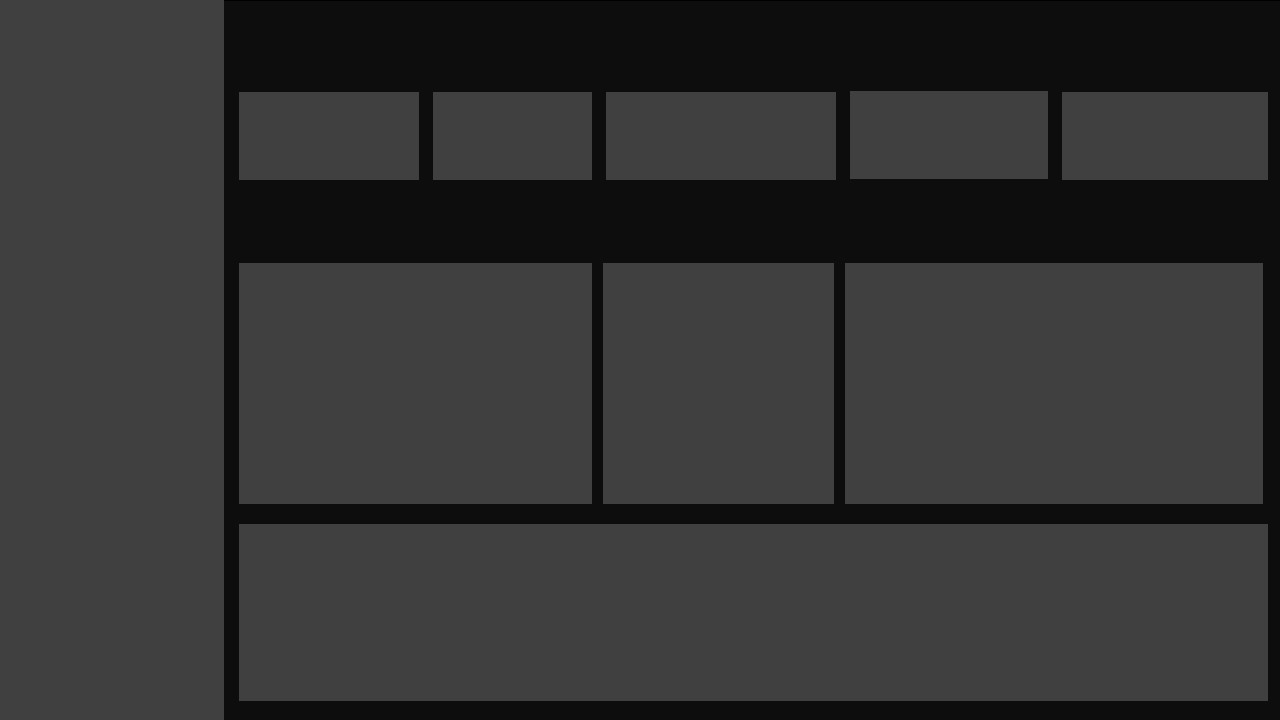

The dashboard page shown, as its layout file describes it:
{"tool":"powerbi","page":{"name":"Page 1","canvas":[1280,720],"ordinal":0},"visuals":[{"type":"lineChart","title":"Pontos","fields":{"Y":["Sum(Tabela1.Pontos)"],"Category":["Tabela1.Rodada"]},"box":[236.2,524.2,1032.5,174.2],"z":0},{"type":"columnChart","title":"Posse de Bola","fields":{"Category":["Tabela1.Rodada"],"Y":["Sum(Tabela1.Posse de Bola)"]},"box":[848.2,263.5,419,234.7],"z":1000},{"type":"lineStackedColumnComboChart","title":"Chutes para marcar gol","fields":{"Category":["Tabela1.Rodada"],"Y":["Sum(Tabela1.Chutes a Gol)"],"Y2":["Sum(Tabela1.Gols Marcados)"]},"box":[236.2,263.5,355.7,234.7],"z":2000},{"type":"barChart","title":"Faltas","fields":{"Category":["Tabela1.Rodada"],"Y":["Sum(Tabela1.Faltas)"]},"box":[604.8,263.5,231.8,234.7],"z":3000},{"type":"card","title":"Gols Marcados","fields":{"Values":["Sum(Tabela1.Gols Marcados)"]},"box":[504,92.2,87.8,83.5],"z":4000},{"type":"card","title":"Gols Sofridos","fields":{"Values":["Sum(Tabela1.Gols Sofridos)"]},"box":[678.3,91.7,158.3,83.3],"z":5000},{"type":"card","title":"Cartões Amarelos","fields":{"Values":["Sum(Tabela1.Cartoes amarelos)"]},"box":[930,91.7,118.3,83.3],"z":6000},{"type":"card","title":"Cartões Vermelhos","fields":{"Values":["Sum(Tabela1.Cartoes Vermehlos)"]},"box":[1141.7,91.7,126.7,83.3],"z":7000},{"type":"card","title":"Pontos","fields":{"Values":["Tabela1.pontos_totais"]},"box":[306.7,91.7,108.3,83.3],"z":8000},{"type":"textbox","box":[591.8,0,329.8,92.2],"z":9000},{"type":"slicer","fields":{"Values":["Parâmetro.Parâmetro"]},"box":[0,169.9,221.8,528.5],"z":10000},{"type":"image","box":[0,0,221.8,175.7],"z":11000},{"type":"image","box":[440.6,102.2,63.4,63.4],"z":12000},{"type":"image","box":[627.8,102.2,61.9,63.4],"z":13000},{"type":"image","box":[859.7,96.5,80.6,73.4],"z":14000},{"type":"image","box":[1084.3,92.2,69.1,82.1],"z":15000},{"type":"image","box":[236.2,89.3,86.4,87.8],"z":16000},{"type":"actionButton","box":[0,0,100,40],"z":17000},{"type":"textbox","box":[591.8,177.1,338.4,86.4],"z":17001},{"type":"shape","box":[930.2,177.1,337,86.4],"z":17002},{"type":"shape","box":[921.6,0,345.6,89.3],"z":17003},{"type":"shape","box":[236.2,0,339.8,87.8],"z":17004},{"type":"shape","box":[236.2,177.1,339.8,86.4],"z":17005}]}

Visuals, with their boxes in screenshot pixels (x1, y1, x2, y2):
"Pontos" lineChart: 236 520 1254 692
"Posse de Bola" columnChart: 840 263 1253 495
"Chutes para marcar gol" lineStackedColumnComboChart: 236 263 587 495
"Faltas" barChart: 600 263 828 495
"Gols Marcados" card: 500 94 587 177
"Gols Sofridos" card: 672 94 828 176
"Cartões Amarelos" card: 920 94 1037 176
"Cartões Vermelhos" card: 1129 94 1254 176
"Pontos" card: 306 94 413 176
textbox: 587 3 912 94
slicer - Parâmetro.Parâmetro: 3 171 222 692
image: 3 3 222 177
image: 438 104 500 167
image: 622 104 683 167
image: 851 98 931 171
image: 1073 94 1141 175
image: 236 91 321 178
actionButton: 3 3 102 43
textbox: 587 178 921 263
shape: 921 178 1253 263
shape: 912 3 1253 91
shape: 236 3 571 90
shape: 236 178 571 263
